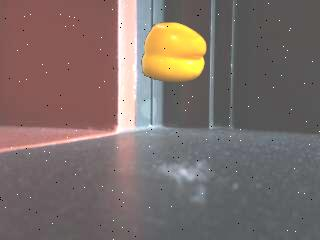Capsicum: (140, 20, 208, 84)
